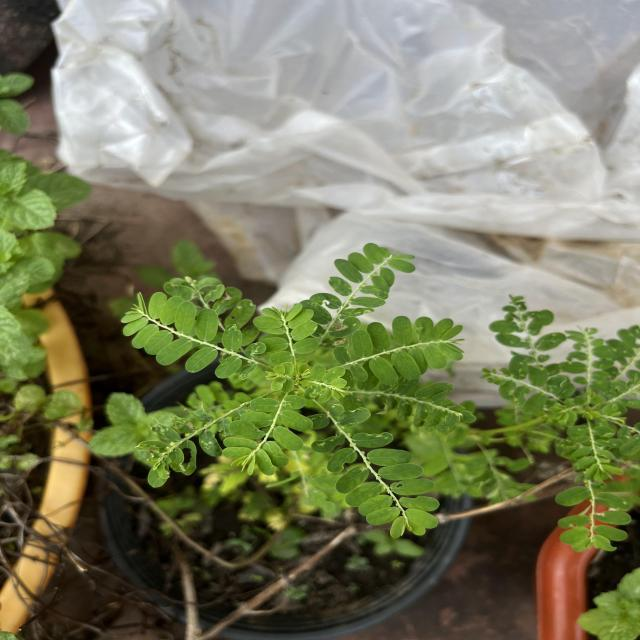Phyllanthus niruri: (309, 401, 443, 541), (116, 289, 266, 381), (309, 238, 416, 332), (332, 314, 469, 386), (220, 388, 310, 481), (254, 302, 324, 371)
